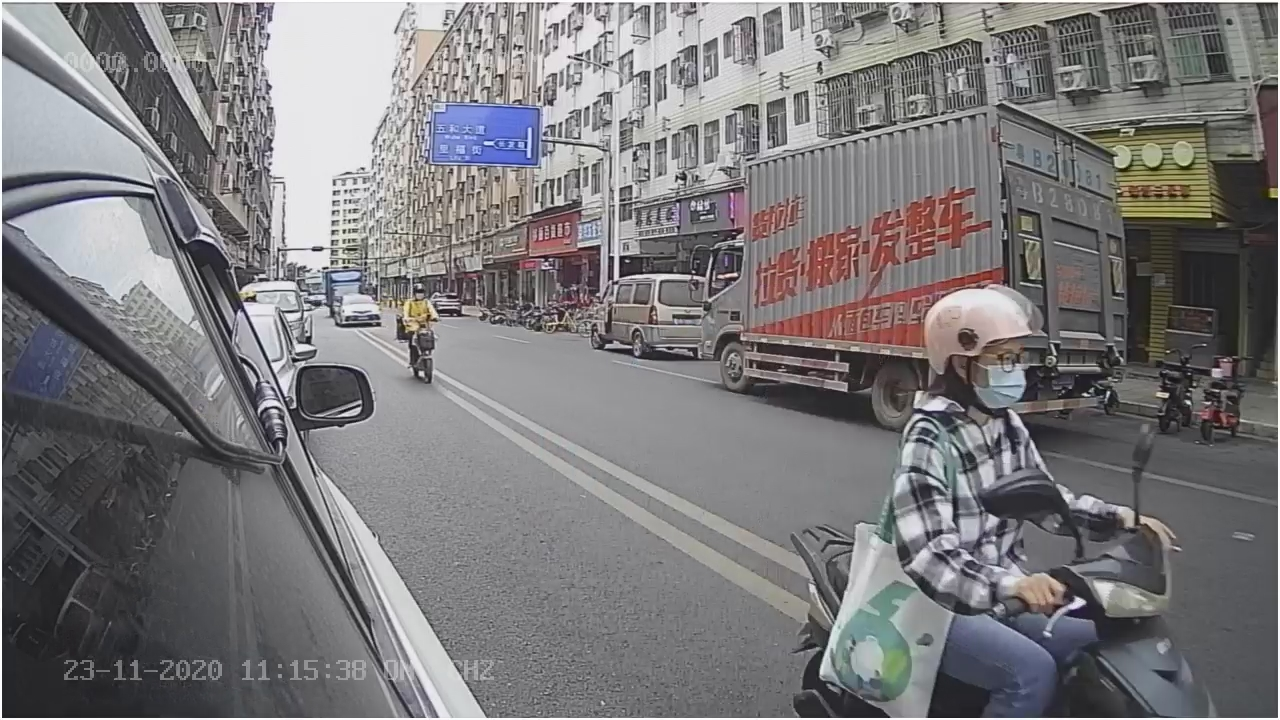person: (881, 281, 1183, 560)
